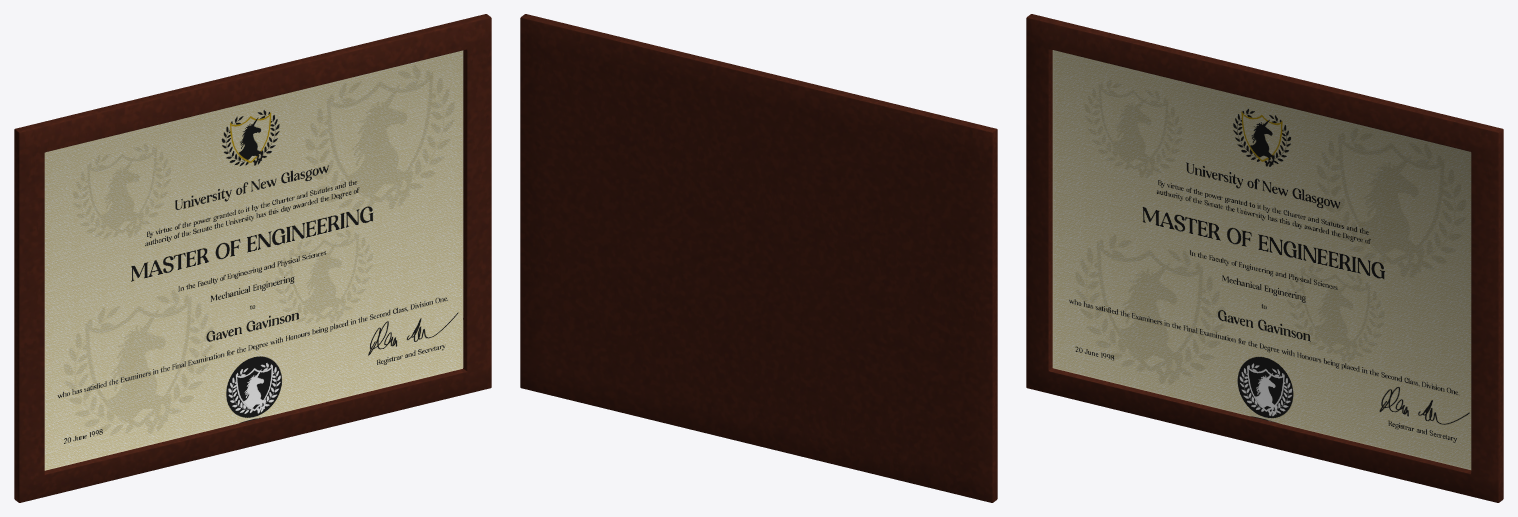
Rendered from Engineering degree cert.fbx.
The picture shows the model from 3 angles, left to right: view 1: azimuth 30°, elevation 25°; view 2: azimuth 150°, elevation 25°; view 3: azimuth 330°, elevation 25°; orthographic projection.
Parts seen in each view (by area): view 1: engineering degree certificate; view 2: engineering degree certificate; view 3: engineering degree certificate.
Boxes of the visible parts, x1=… form: engineering degree certificate: x1=14, y1=14, x2=491, y2=502; engineering degree certificate: x1=520, y1=14, x2=997, y2=502; engineering degree certificate: x1=1026, y1=14, x2=1503, y2=502.
Bounding box in the file's own units: 78.74 × 59.06 × 1.95.
